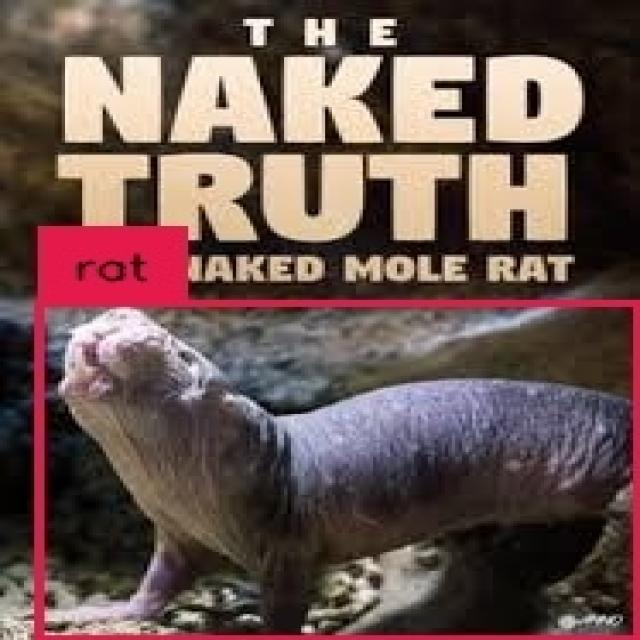rat: (39, 304, 638, 640)
